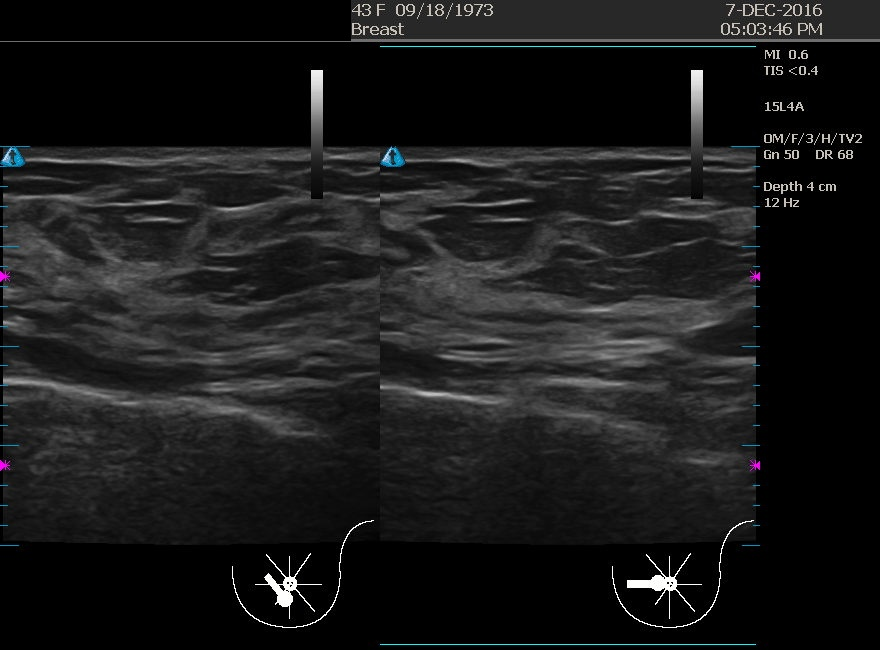BIRADS_3: (32, 188, 232, 388), (383, 174, 583, 374)
